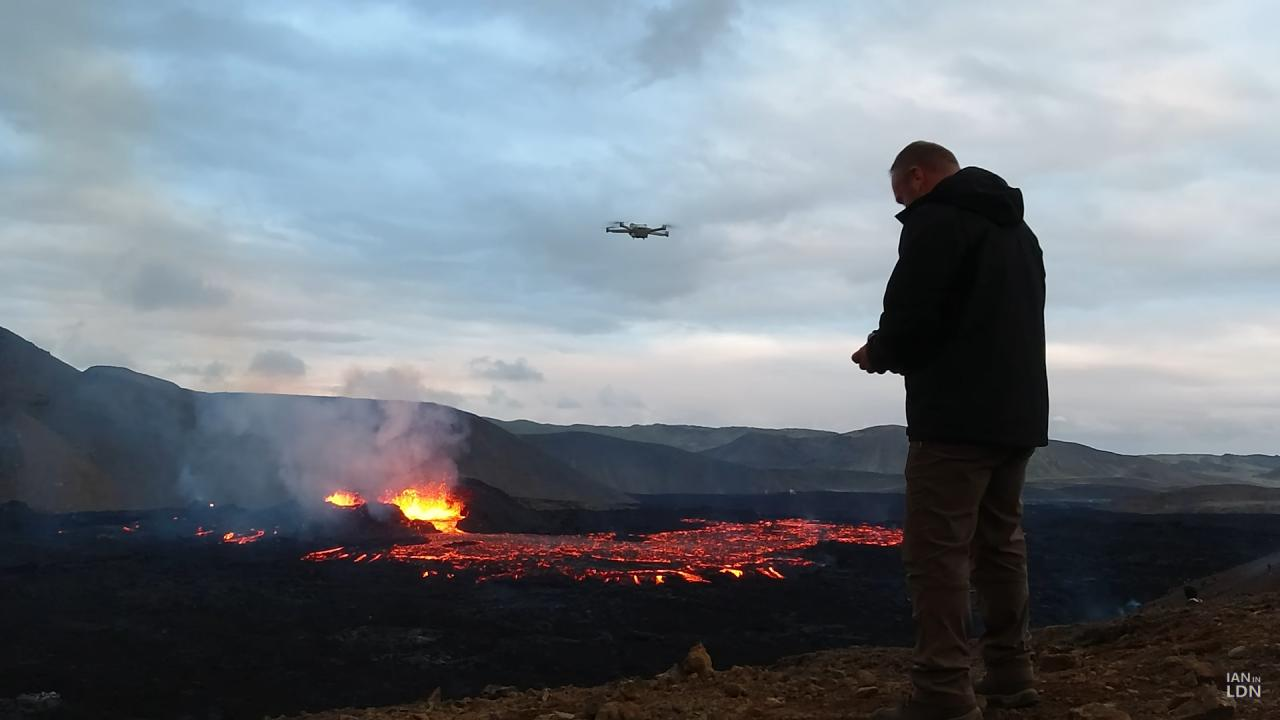Drone: (598, 213, 678, 250)
